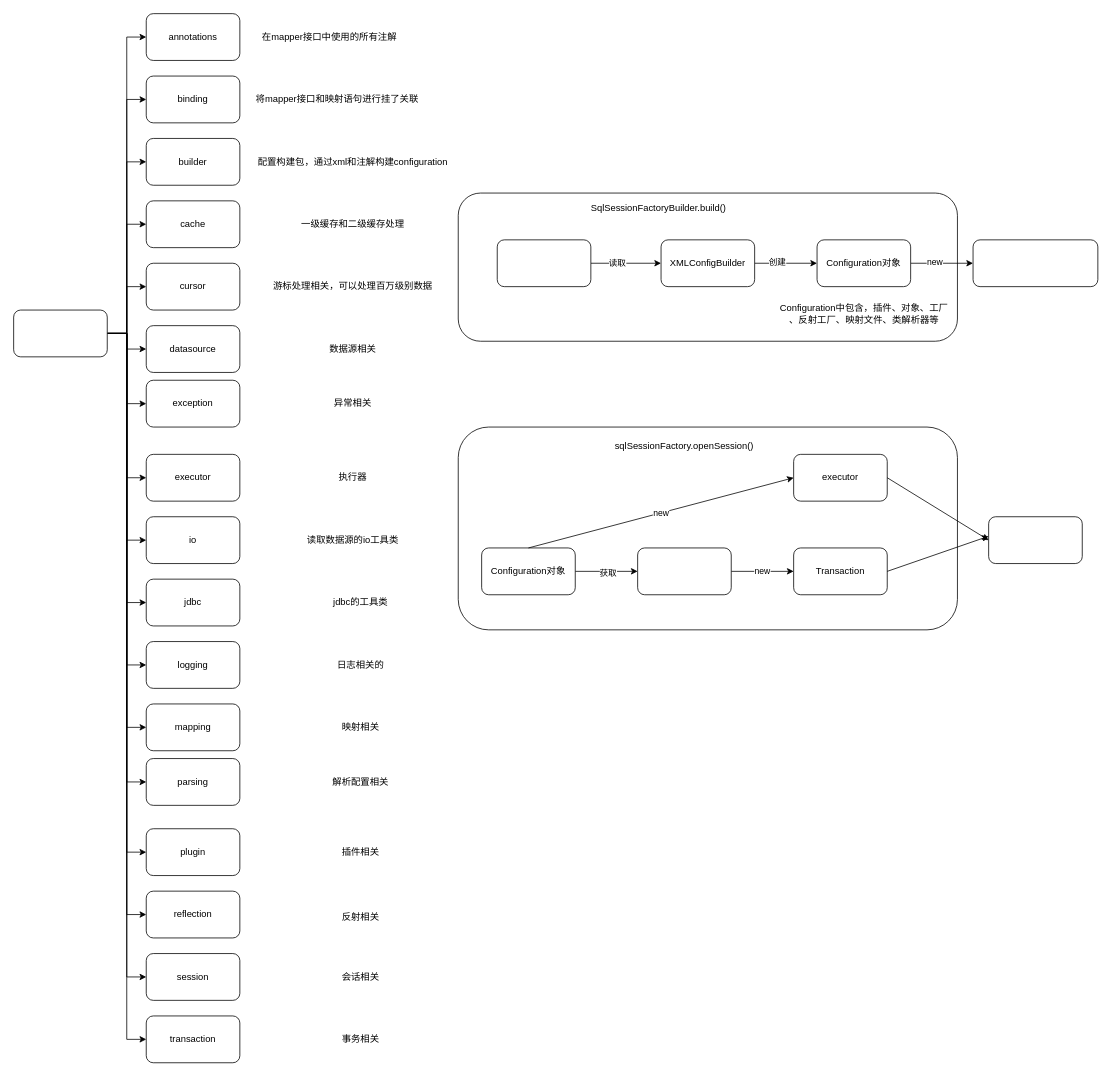
Image size: 1112x1076. Some labels were removed from this diagram. The shapes that lost their labels are listed below. From the top down, each one's centre as x and y in pixels, then its label:
At [543,263]: "xml".
At [1035,263]: "DefaultSqlSessionFactory".
At [60,333]: "Mybitais".
At [1035,540]: "DefaultSqlSession".
At [684,571]: "TransactionFactory 事务工厂".
